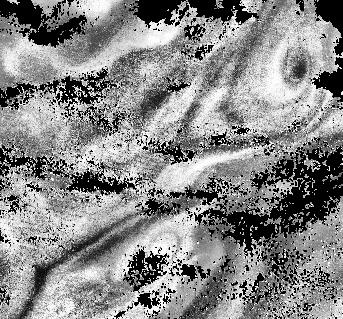CE: (223, 4, 333, 136)
